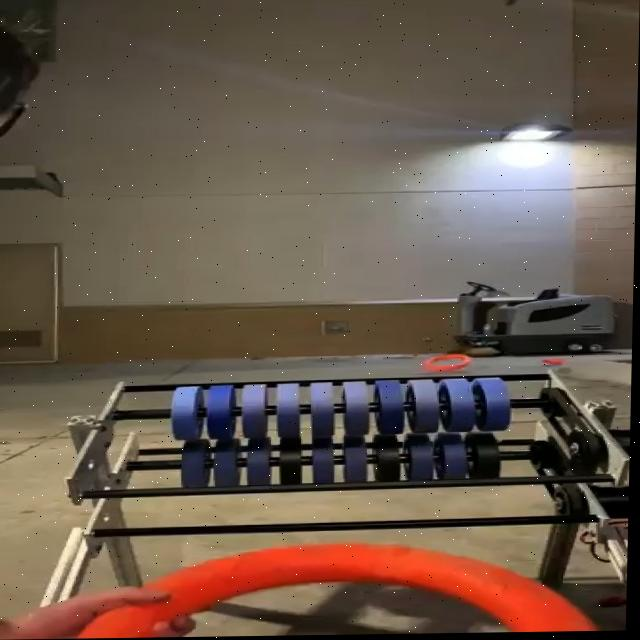note: (84, 540, 609, 639), (419, 354, 476, 373)
